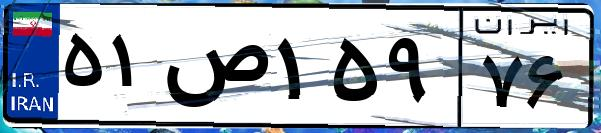1: (270, 28, 330, 110), (110, 28, 158, 98)
5: (330, 28, 385, 110), (57, 26, 110, 100)
6: (525, 38, 570, 115)
7: (475, 38, 525, 113)
9: (385, 28, 445, 110)
ص: (158, 20, 270, 120)
